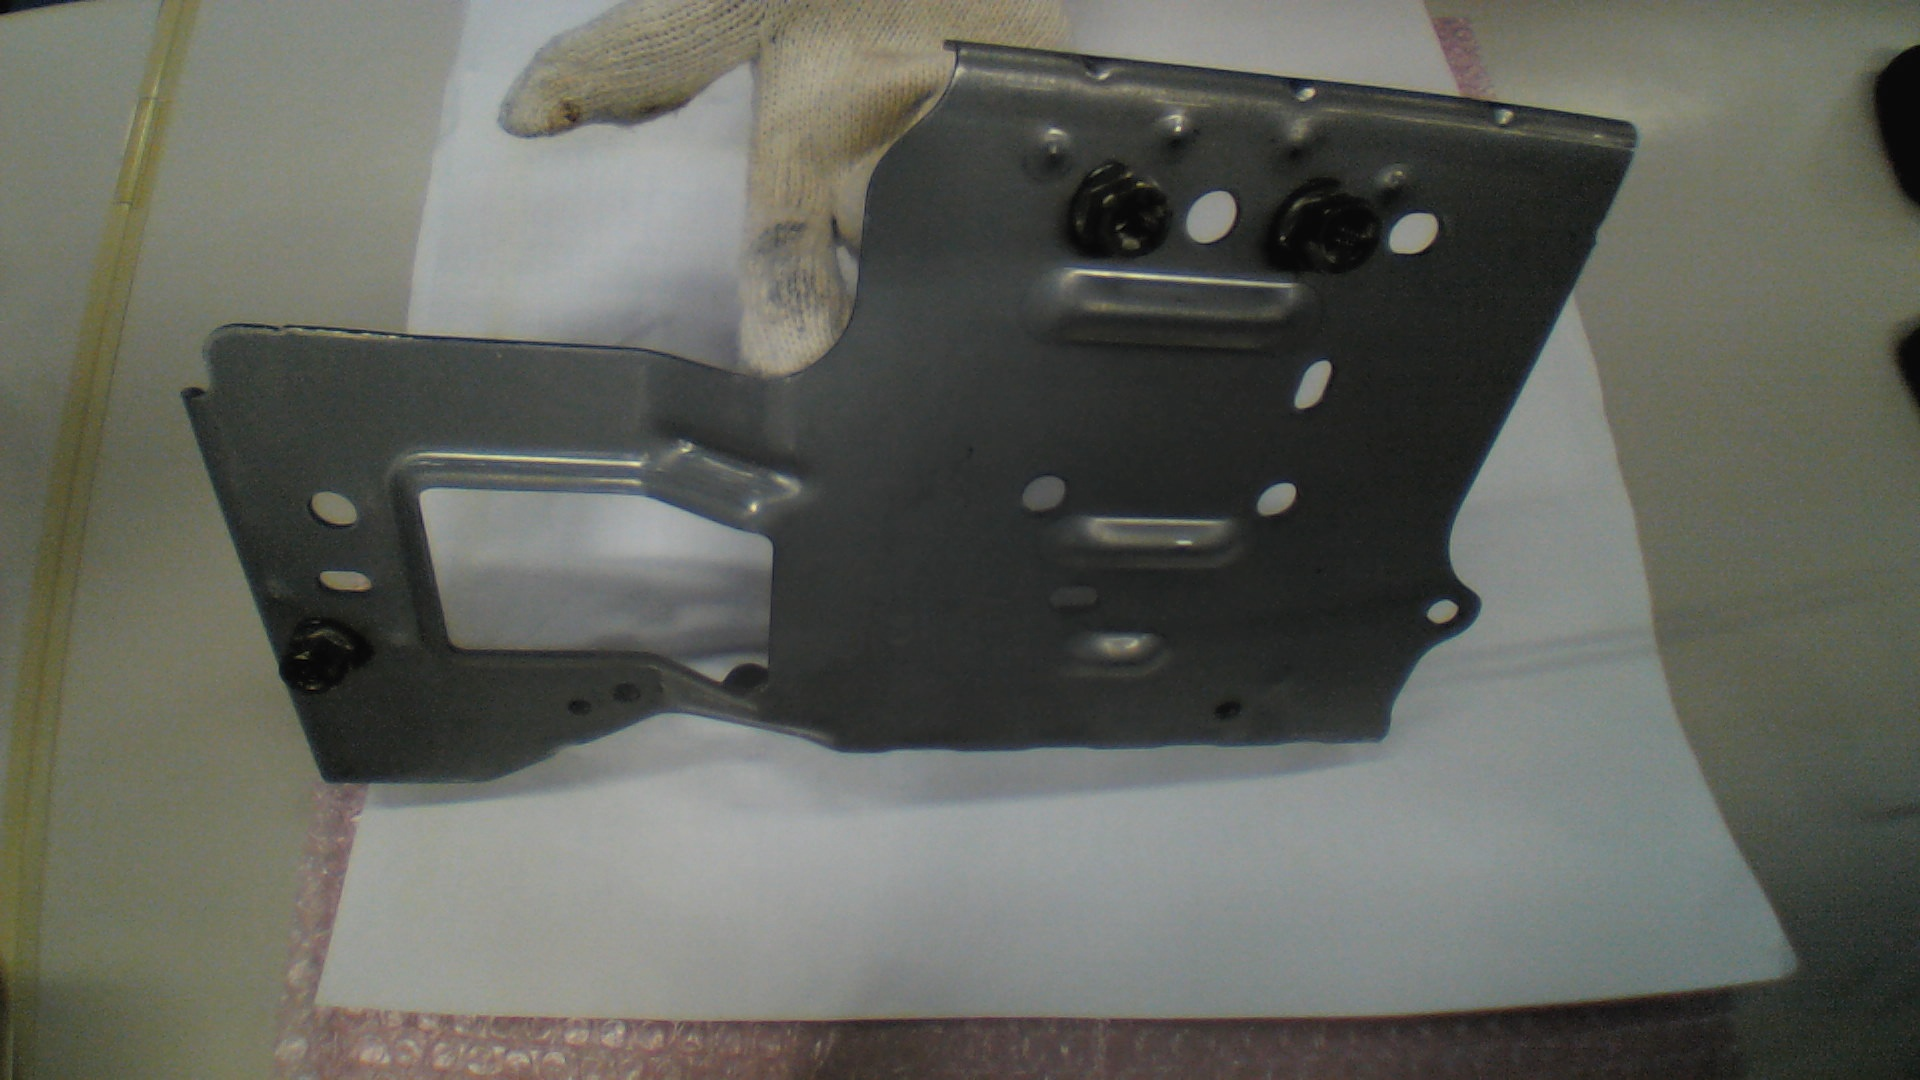dog: (1265, 179, 1381, 274), (1068, 160, 1174, 262), (278, 621, 368, 694)
